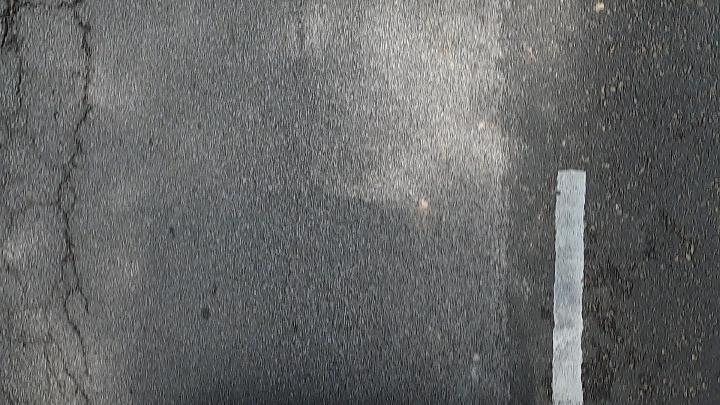Crack: (57, 6, 111, 405), (61, 6, 106, 404), (0, 278, 4, 325)
Lane: (547, 164, 591, 405), (552, 170, 583, 404)
